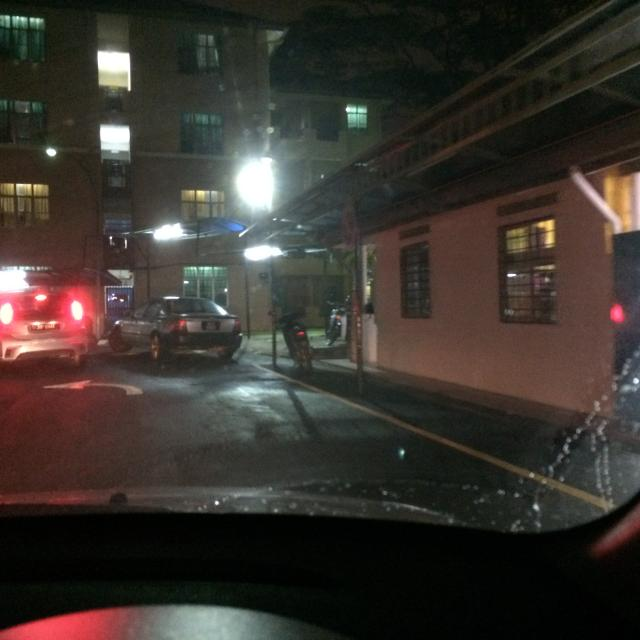Motorbike: (268, 306, 320, 378)
